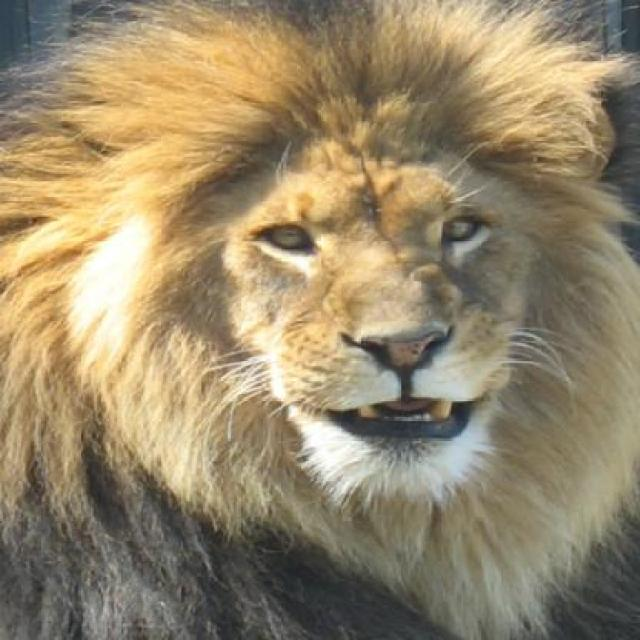Lion: (4, 6, 634, 639)
